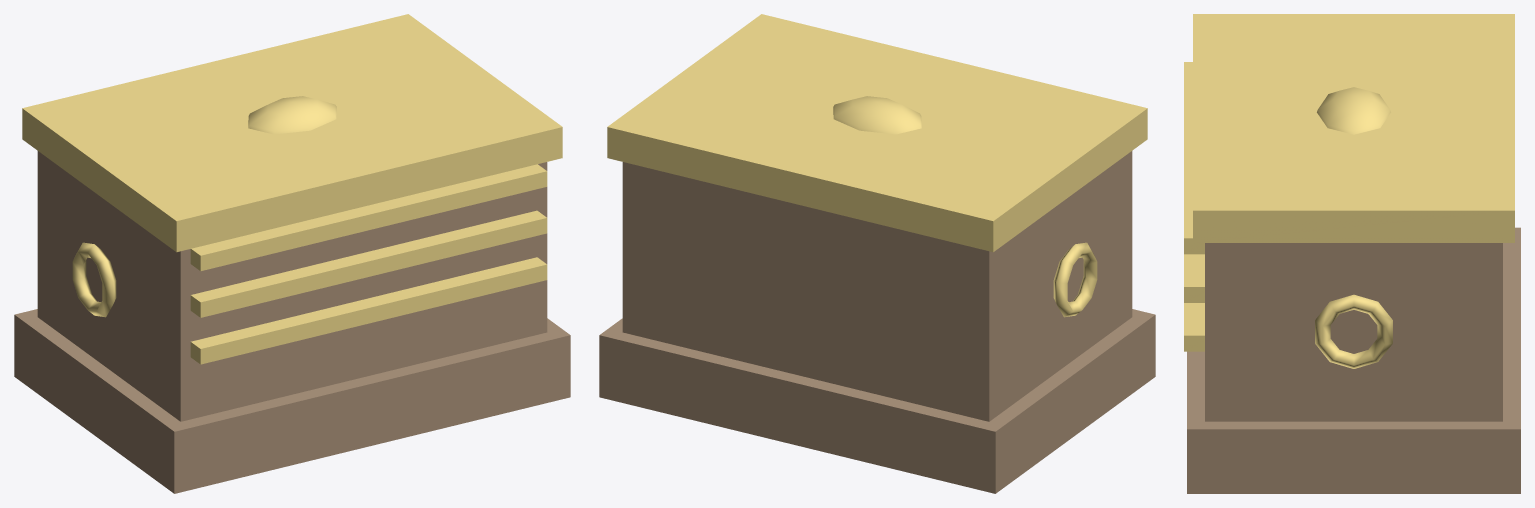
The model's file is mythic-underworld-and-olympus-relic-chest-3559458f__21442.glb.
3 renders of one model, left to right at view 1: azimuth 30°, elevation 25°; view 2: azimuth 150°, elevation 25°; view 3: azimuth 270°, elevation 25°, orthographic. The views are drawn at different scales.
Visible parts, largest first — view 1: relic-chest; view 2: relic-chest; view 3: relic-chest.
Boxes of the visible parts, x1,y1,x2,y2 form: relic-chest: [14, 14, 570, 493]; relic-chest: [599, 14, 1155, 493]; relic-chest: [1184, 14, 1520, 493].
Size of the model in its own units: 0.828 by 0.55 by 0.565.
